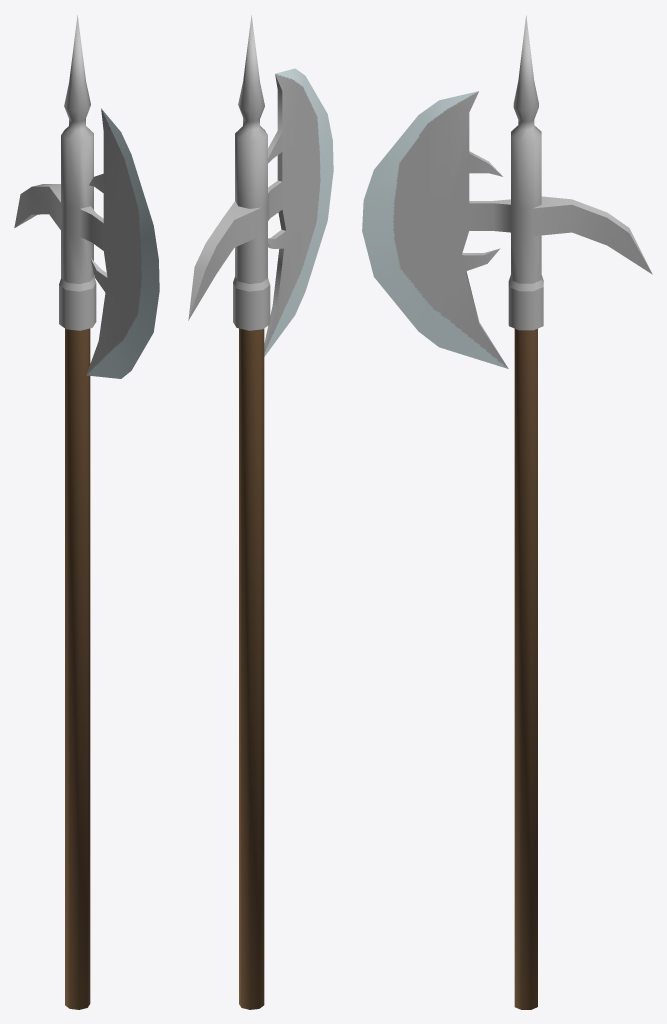
The model's file is Halberd.fbx.
The picture shows the model from 3 angles, left to right: view 1: azimuth 30°, elevation 25°; view 2: azimuth 150°, elevation 25°; view 3: azimuth 270°, elevation 25°; orthographic projection.
Visible parts, largest first — view 1: Halberd_0; view 2: Halberd_0; view 3: Halberd_0.
Boxes of the visible parts, left/top/right/bottom form: Halberd_0: left=14, top=15, right=159, bottom=1009; Halberd_0: left=188, top=15, right=333, bottom=1009; Halberd_0: left=362, top=15, right=652, bottom=1009.
Bounding box in the file's own units: 6.44 × 202 × 53.61.
